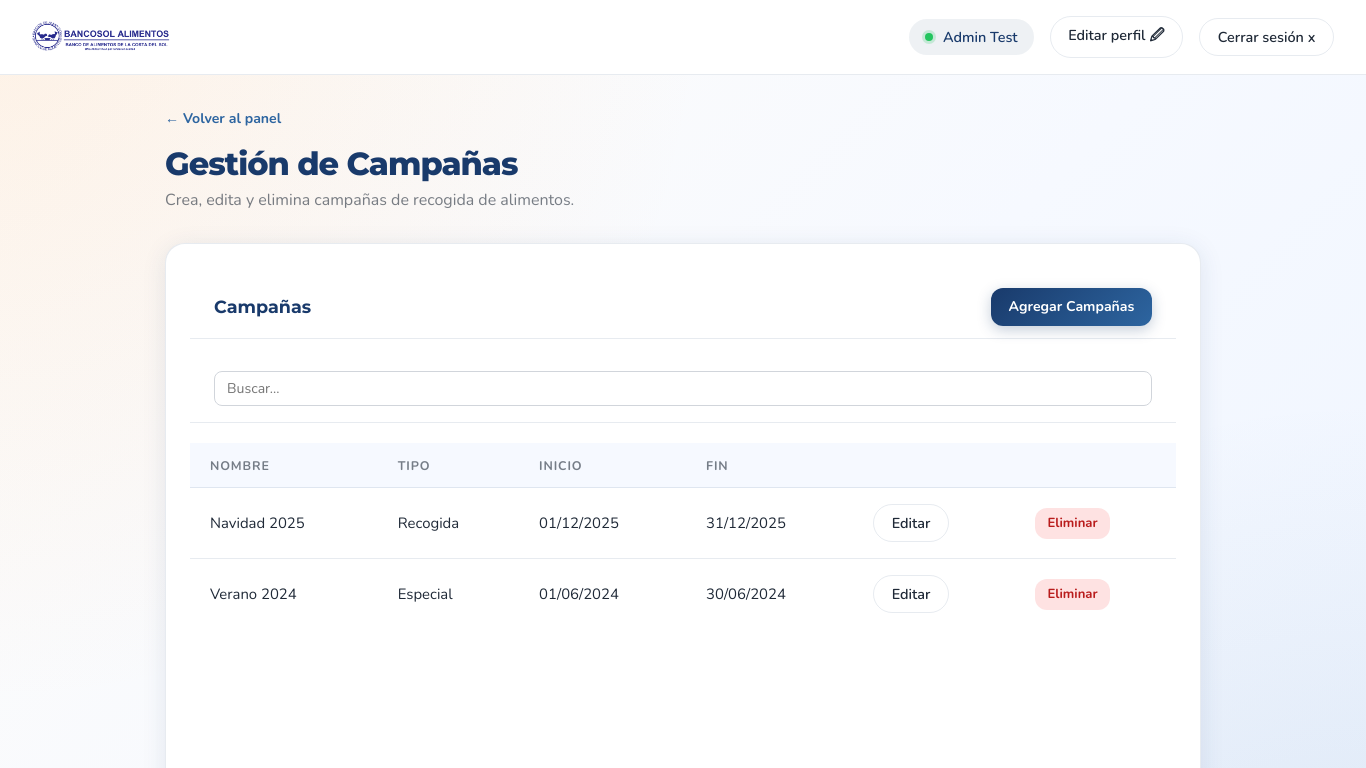
AdminCampaigns (CRUD) › "Agregar Campañas" abre el modal
Expected: the text "Navidad 2025" is shown, [190,488,378,559]
Click the button "Agregar Campañas" at point(1072, 307), box [991,288,1152,326]
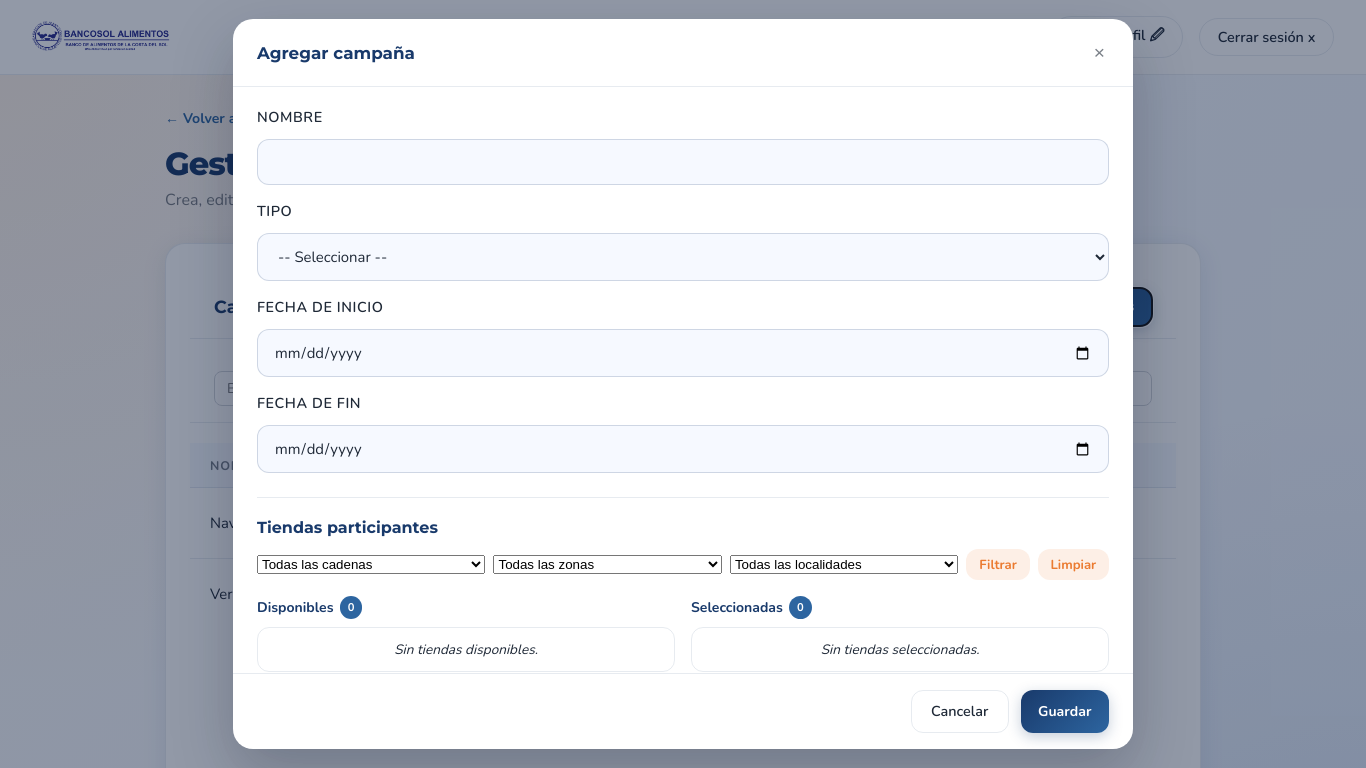
Expected: the heading "Agregar campaña" is shown, [257,43,415,63]
Expected: the heading "Tiendas participantes" is shown, [257,518,438,537]
